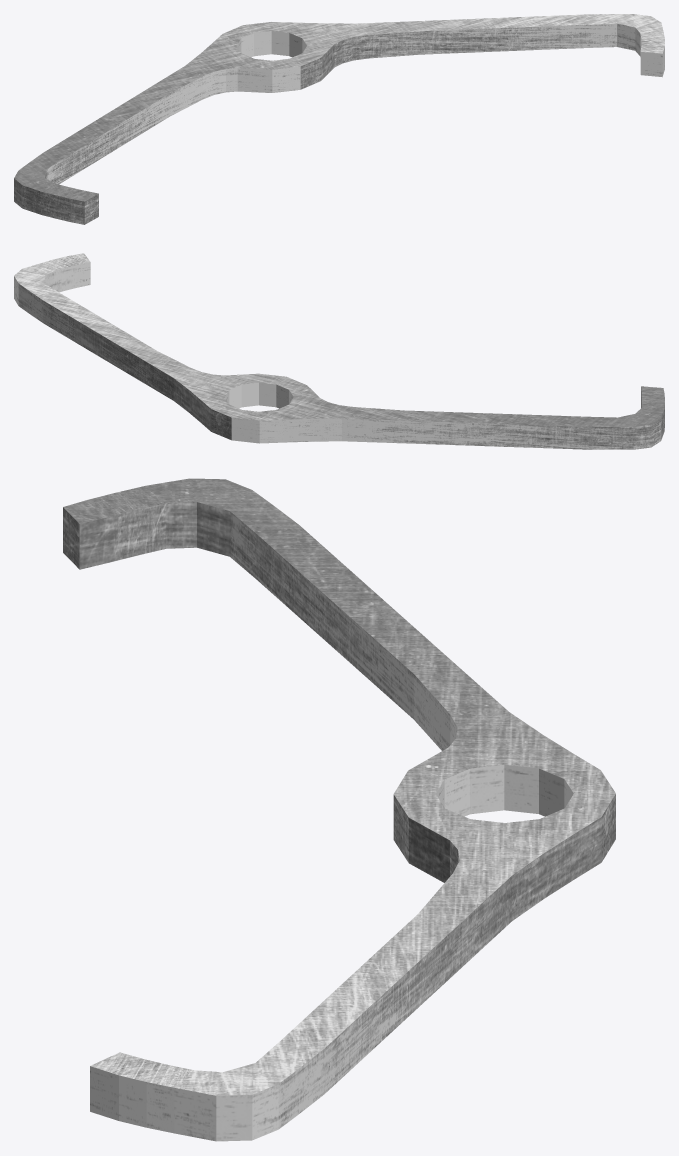
The model's file is anchor.obj.
3 renders of one model, top to bottom at view 1: azimuth 30°, elevation 25°; view 2: azimuth 150°, elevation 25°; view 3: azimuth 270°, elevation 25°, orthographic. The views are drawn at different scales.
Visible parts, largest first — view 1: Circle.001_Circle.005; view 2: Circle.001_Circle.005; view 3: Circle.001_Circle.005.
Part boxes in pixels (left/top/right/bottom): Circle.001_Circle.005: left=14, top=14, right=664, bottom=224; Circle.001_Circle.005: left=14, top=253, right=664, bottom=449; Circle.001_Circle.005: left=63, top=478, right=615, bottom=1141.
Size of the model in its own units: 1.63 by 0.0573 by 0.6186.
1 material, 1 textured.
